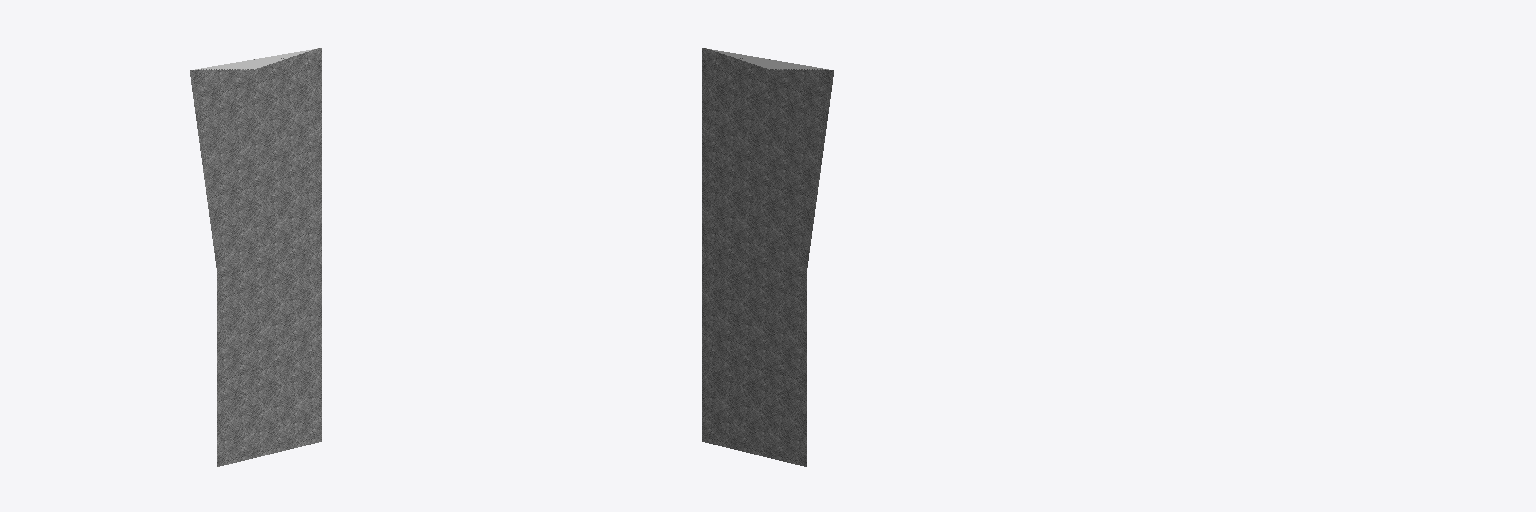
3 views of the same model, side by side, from view 1: azimuth 30°, elevation 25°; view 2: azimuth 150°, elevation 25°; view 3: azimuth 270°, elevation 25° (orthographic).
Visible parts, largest first — view 1: Plane; view 2: Plane; view 3: none.
Boxes of the visible parts, box(x1,y1,x2,y2) form: Plane: box(190, 48, 321, 466); Plane: box(702, 48, 833, 466).
Size of the model in its own units: 2.77 by 8.04 by 0.
1 materials, 1 textured.